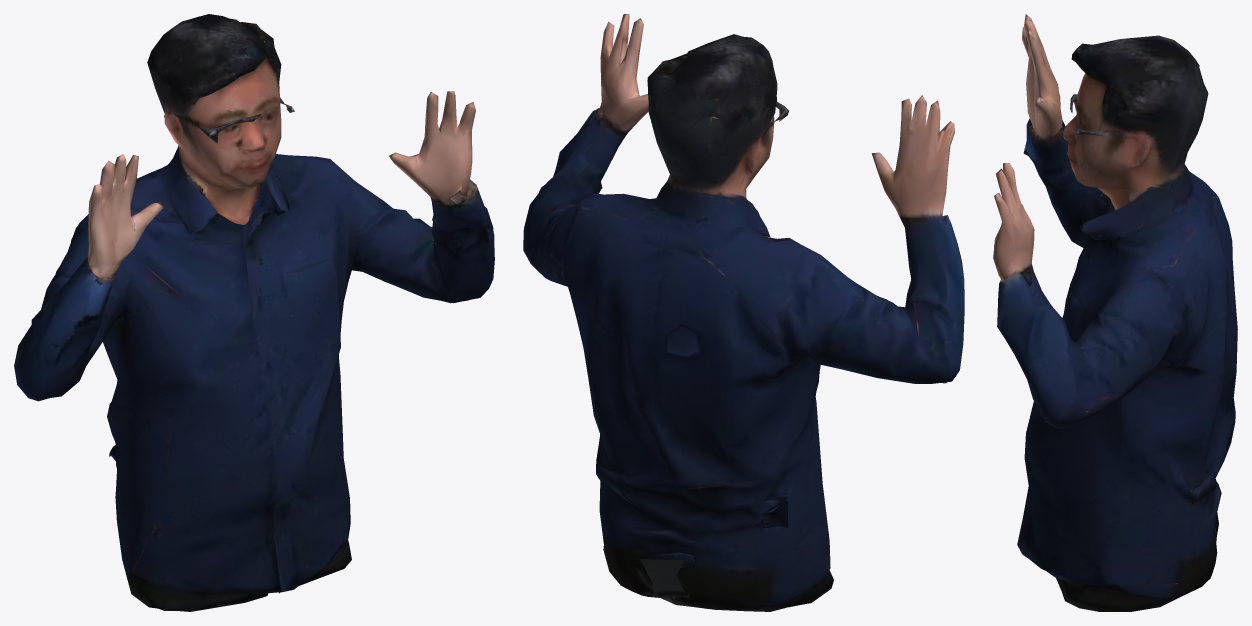
The model's file is fan-m-glasses-s2.lo.glb.
The picture shows the model from 3 angles, left to right: view 1: azimuth 30°, elevation 25°; view 2: azimuth 150°, elevation 25°; view 3: azimuth 270°, elevation 25°; orthographic projection. The views are drawn at different scales.
Parts seen in each view (by area): view 1: geometry_0; view 2: geometry_0; view 3: geometry_0.
Boxes of the visible parts, box(x1,y1,x2,y2) form: geometry_0: box(14, 14, 494, 611); geometry_0: box(523, 14, 964, 611); geometry_0: box(993, 14, 1237, 611).
Size of the model in its own units: 0.8715 by 0.9972 by 0.4235.
Materials: 1 (1 with a texture image).
